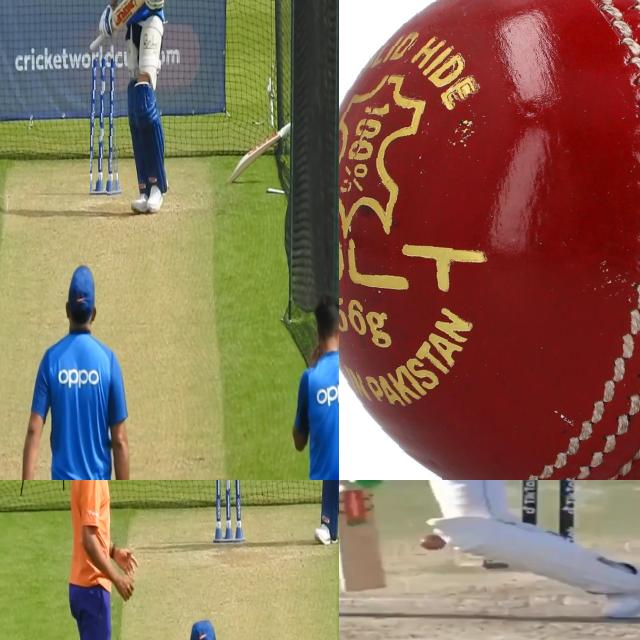Cricket ball: (339, 0, 640, 480), (418, 532, 448, 552)
Stumps: (90, 56, 122, 197), (215, 480, 242, 544)
